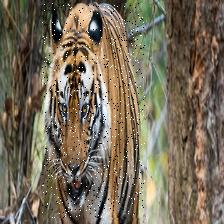tiger: (43, 4, 146, 219)
